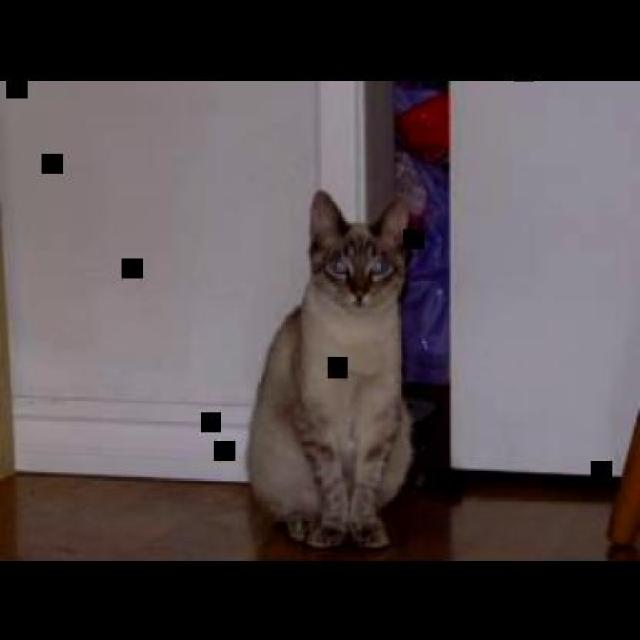unauthorized: (246, 188, 419, 549)
